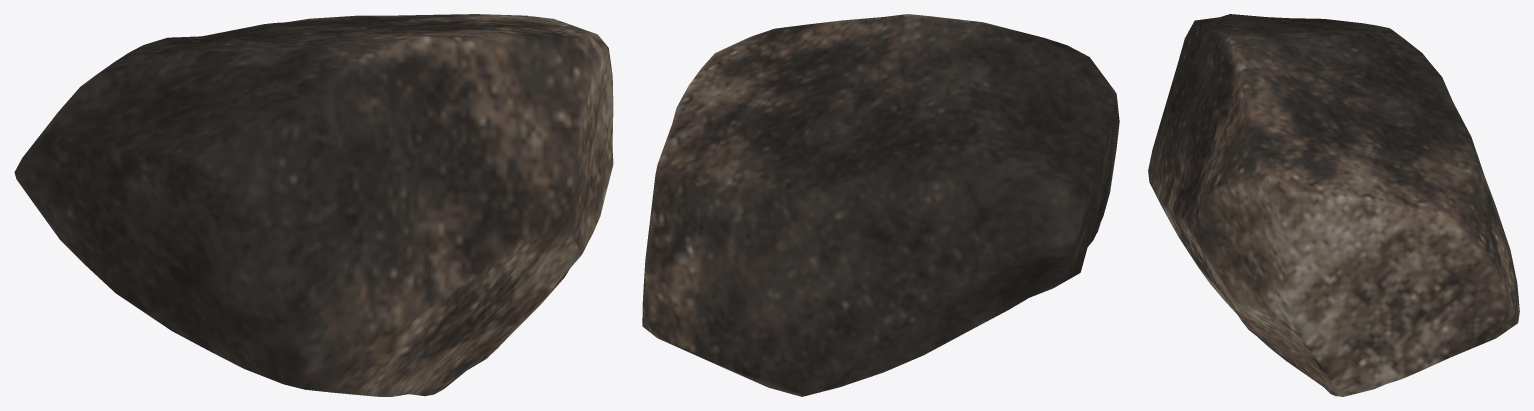
The model's file is SM_RP_Rock_2m_4.glb.
3 renders of one model, left to right at view 1: azimuth 30°, elevation 25°; view 2: azimuth 150°, elevation 25°; view 3: azimuth 270°, elevation 25°, orthographic. The views are drawn at different scales.
Visible parts, largest first — view 1: SM_RP_Rock_2m_4; view 2: SM_RP_Rock_2m_4; view 3: SM_RP_Rock_2m_4.
Boxes of the visible parts, x1,y1,x2,y2 form: SM_RP_Rock_2m_4: (14, 14, 613, 396); SM_RP_Rock_2m_4: (642, 14, 1119, 396); SM_RP_Rock_2m_4: (1148, 14, 1519, 396).
Bounding box in the file's own units: 3.19 × 2.31 × 2.7.
1 material, 1 textured.
